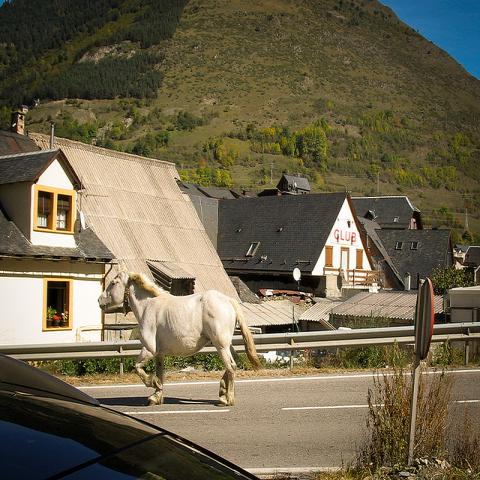car: (0, 351, 263, 480)
